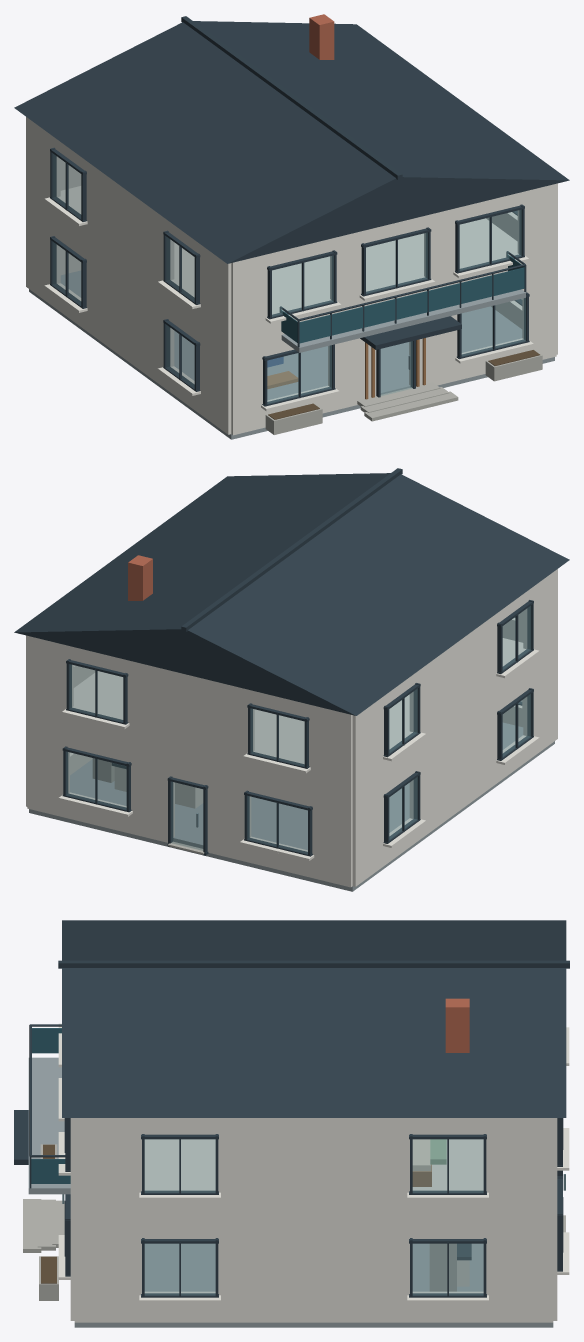
Rendered from House_4.fbx.
3 views of the same model, one above another, from view 1: azimuth 30°, elevation 25°; view 2: azimuth 150°, elevation 25°; view 3: azimuth 270°, elevation 25° (orthographic). The views are drawn at different scales.
Visible parts, largest first — view 1: House_4; view 2: House_4; view 3: House_4.
Part boxes in pixels (x1,y1,x2,y2): House_4: (14, 14, 569, 439); House_4: (14, 468, 569, 891); House_4: (14, 920, 569, 1327).
Bounding box in the file's own units: 12.87 × 8.5 × 15.1.
